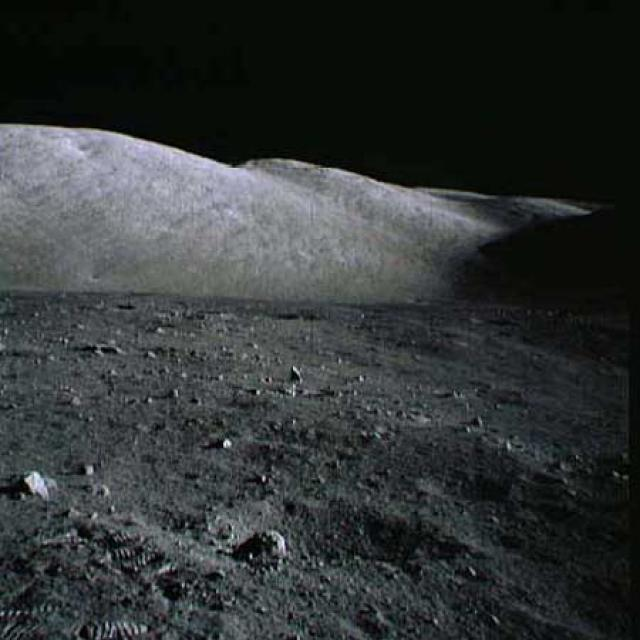crater: (193, 495, 456, 570)
rock: (13, 465, 59, 504), (251, 522, 293, 562), (90, 338, 127, 362), (285, 359, 312, 389)
